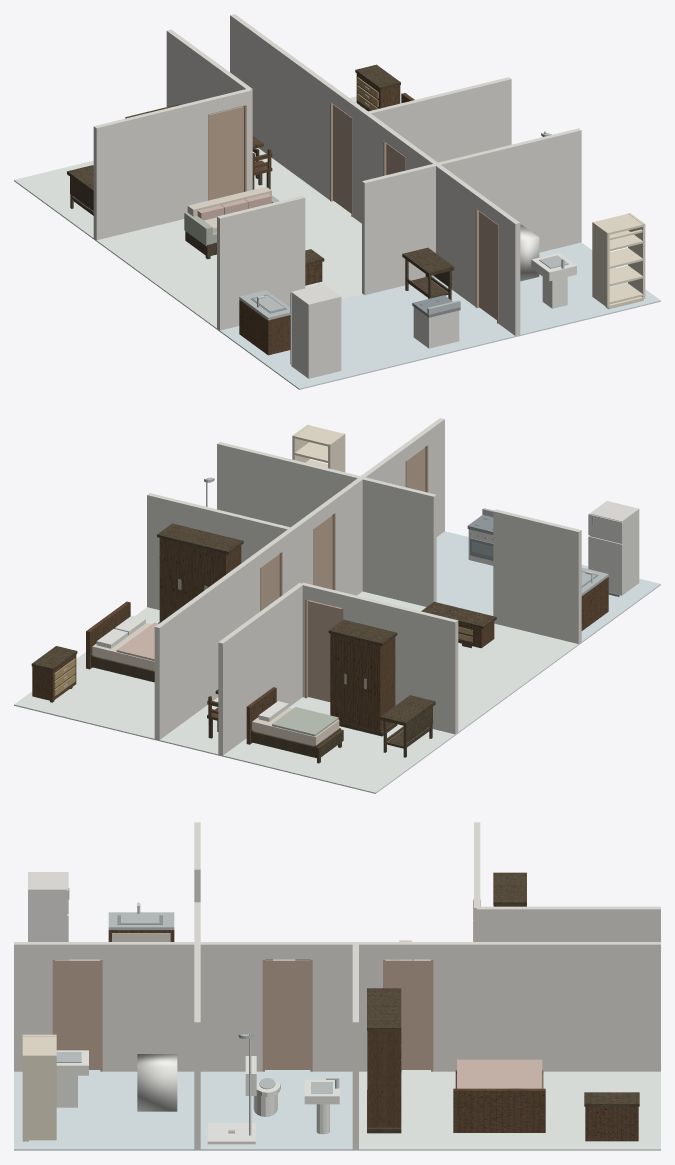
The picture shows the model from 3 angles, top to bottom: view 1: azimuth 30°, elevation 25°; view 2: azimuth 150°, elevation 25°; view 3: azimuth 270°, elevation 25°; orthographic projection. The views are drawn at different scales.
Visible parts, largest first — view 1: H25_WALL_00, H25_FLOOR_01_SALA_+_JANTAR_A, H25_WALL_05, H25_FLOOR_03_COZINHA, H25_WALL_10, H25_WALL_03, H25_WALL_04, H25_WALL_09, H25_WALL_07, H25_FLOOR_06_LAVANDERIA, H25_FURN_09_fridge__05__gabinete, H25_WALL_02 (+22 smaller); view 2: H25_WALL_03, H25_WALL_05, H25_WALL_02, H25_WALL_04, H25_WALL_00, H25_WALL_10, H25_FLOOR_00_QUARTO_02, H25_FLOOR_01_SALA_+_JANTAR_A, H25_FLOOR_04_QUARTO_CASAL, H25_FLOOR_03_COZINHA, H25_WALL_09, H25_WALL_07 (+35 smaller); view 3: H25_WALL_05, H25_WALL_07, H25_FLOOR_04_QUARTO_CASAL, H25_FLOOR_06_LAVANDERIA, H25_FLOOR_05_BANHEIRO, H25_WALL_06, H25_WALL_02, H25_DOOR_02_LEAF, H25_DOOR_03_LEAF, H25_FURN_13_bed_double__07__cabeceira, H25_WALL_08, H25_DOOR_01_LEAF (+23 smaller).
Boxes of the visible parts, <box> form: H25_WALL_00: <box>93,99,209,240</box>; H25_FLOOR_01_SALA_+_JANTAR_A: <box>95,186,362,330</box>; H25_WALL_05: <box>230,14,335,199</box>; H25_FLOOR_03_COZINHA: <box>218,278,517,389</box>; H25_WALL_10: <box>436,128,581,252</box>; H25_WALL_03: <box>217,195,305,330</box>; H25_WALL_04: <box>362,163,437,294</box>; H25_WALL_09: <box>367,77,511,162</box>; H25_WALL_07: <box>405,142,480,306</box>; H25_FLOOR_06_LAVANDERIA: <box>518,242,660,336</box>; H25_FURN_09_fridge__05__gabinete: <box>291,284,341,378</box>; H25_WALL_02: <box>166,29,252,189</box>; H25_WALL_03: <box>493,509,581,643</box>; H25_WALL_05: <box>154,553,260,739</box>; H25_WALL_02: <box>218,583,302,755</box>; H25_WALL_04: <box>360,477,436,606</box>; H25_WALL_00: <box>342,593,458,734</box>; H25_WALL_10: <box>217,442,360,527</box>; H25_FLOOR_00_QUARTO_02: <box>220,697,456,793</box>; H25_FLOOR_01_SALA_+_JANTAR_A: <box>308,591,579,734</box>; H25_FLOOR_04_QUARTO_CASAL: <box>14,607,159,740</box>; H25_FLOOR_03_COZINHA: <box>436,531,660,643</box>; H25_WALL_09: <box>147,493,292,609</box>; H25_WALL_07: <box>330,446,406,607</box>; H25_WALL_05: <box>432,942,660,1071</box>; H25_WALL_07: <box>101,942,263,1071</box>; H25_FLOOR_04_QUARTO_CASAL: <box>356,1070,660,1150</box>; H25_FLOOR_06_LAVANDERIA: <box>14,1070,197,1150</box>; H25_FLOOR_05_BANHEIRO: <box>197,1070,355,1150</box>; H25_WALL_06: <box>311,942,384,1071</box>; H25_WALL_02: <box>477,906,660,941</box>; H25_DOOR_02_LEAF: <box>265,960,310,1069</box>; H25_DOOR_03_LEAF: <box>55,960,100,1069</box>; H25_FURN_13_bed_double__07__cabeceira: <box>453,1088,545,1132</box>; H25_WALL_08: <box>14,942,53,1071</box>; H25_DOOR_01_LEAF: <box>385,960,430,1069</box>.
Bounding box in the file's own units: 8.21 × 2.46 × 11.22.
22 materials, 3 textured.
